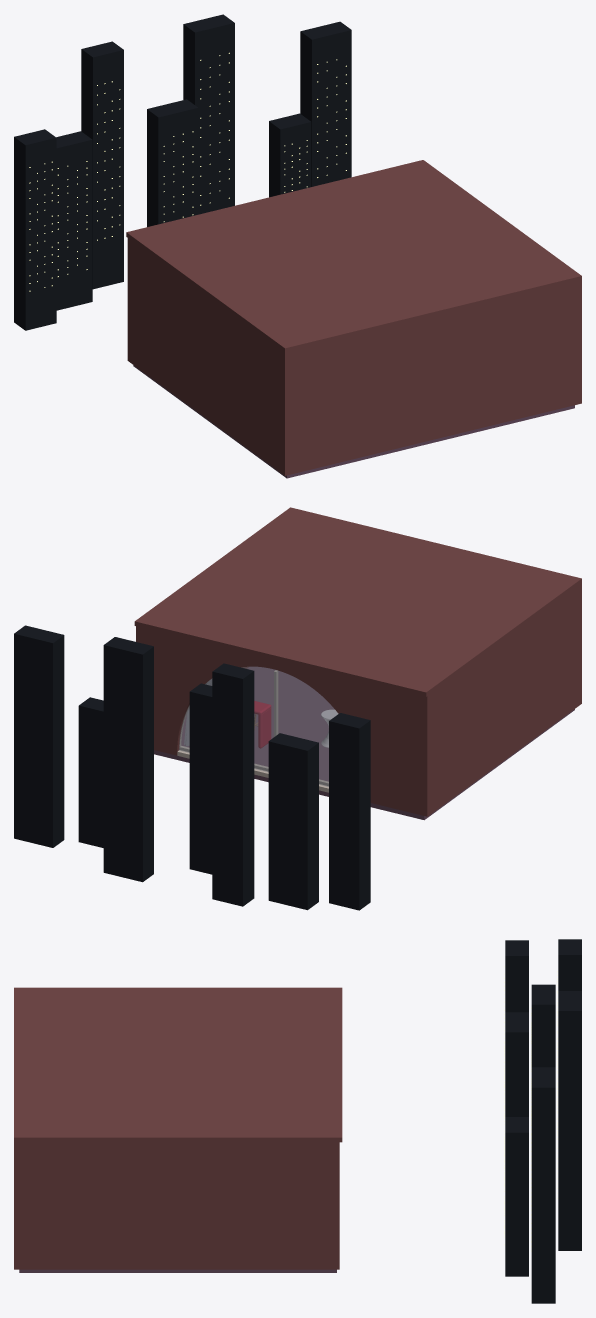
3 views of the same model, one above another, from view 1: azimuth 30°, elevation 25°; view 2: azimuth 150°, elevation 25°; view 3: azimuth 270°, elevation 25° (orthographic). The views are drawn at different scales.
Visible parts, largest first — view 1: CEILING_inferred, WALL_front_inferred, WALL_left_inferred, CONTEXT_city_mass_2, CONTEXT_city_mass_0, CONTEXT_city_mass_4, CONTEXT_city_mass_6, CONTEXT_city_mass_1, CONTEXT_city_mass_3, CONTEXT_city_mass_5, FLOOR_bounded; view 2: CEILING_inferred, WALL_left_inferred, CONTEXT_city_mass_4, CONTEXT_city_mass_6, CONTEXT_city_mass_2, CONTEXT_city_mass_1, CONTEXT_city_mass_0, WALL_rear_left, WINDOW_glazing, FLOOR_bounded, CONTEXT_city_mass_3, CONTEXT_city_mass_5 (+1 smaller); view 3: CEILING_inferred, WALL_right_inferred, CONTEXT_city_mass_4, CONTEXT_city_mass_6, CONTEXT_city_mass_5, CONTEXT_city_mass_3, CONTEXT_city_mass_1, CONTEXT_city_mass_0, FLOOR_bounded, CONTEXT_city_mass_2, WALL_front_inferred, WALL_rear_right.
Part boxes in pixels (left/top/right/bottom): CEILING_inferred: left=126, top=160, right=581, bottom=352; WALL_front_inferred: left=282, top=280, right=581, bottom=475; WALL_left_inferred: left=130, top=240, right=282, bottom=473; CONTEXT_city_mass_2: left=81, top=41, right=123, bottom=289; CONTEXT_city_mass_0: left=14, top=129, right=56, bottom=330; CONTEXT_city_mass_4: left=183, top=14, right=234, bottom=214; CONTEXT_city_mass_6: left=300, top=21, right=351, bottom=186; CONTEXT_city_mass_1: left=56, top=131, right=92, bottom=310; CONTEXT_city_mass_3: left=147, top=99, right=198, bottom=226; CONTEXT_city_mass_5: left=269, top=113, right=311, bottom=197; FLOOR_bounded: left=133, top=365, right=574, bottom=478; CEILING_inferred: left=134, top=507, right=581, bottom=696; WALL_left_inferred: left=428, top=585, right=579, bottom=814; CONTEXT_city_mass_4: left=103, top=637, right=153, bottom=882; CONTEXT_city_mass_6: left=14, top=625, right=64, bottom=847; CONTEXT_city_mass_2: left=212, top=663, right=254, bottom=906; CONTEXT_city_mass_1: left=268, top=733, right=318, bottom=910; CONTEXT_city_mass_0: left=329, top=713, right=370, bottom=910; WALL_rear_left: left=368, top=683, right=429, bottom=816; WINDOW_glazing: left=179, top=667, right=337, bottom=786; FLOOR_bounded: left=154, top=666, right=574, bottom=820; CONTEXT_city_mass_3: left=189, top=683, right=212, bottom=874; CONTEXT_city_mass_5: left=78, top=697, right=103, bottom=847; CEILING_inferred: left=14, top=987, right=342, bottom=1142; WALL_right_inferred: left=19, top=1142, right=336, bottom=1269; CONTEXT_city_mass_4: left=558, top=991, right=581, bottom=1250; CONTEXT_city_mass_6: left=531, top=1067, right=555, bottom=1303; CONTEXT_city_mass_5: left=505, top=1117, right=528, bottom=1276; CONTEXT_city_mass_3: left=505, top=1012, right=528, bottom=1116; CONTEXT_city_mass_1: left=531, top=984, right=555, bottom=1067; CONTEXT_city_mass_0: left=505, top=940, right=528, bottom=1012; FLOOR_bounded: left=19, top=1269, right=336, bottom=1272; CONTEXT_city_mass_2: left=558, top=939, right=581, bottom=990; WALL_front_inferred: left=14, top=1142, right=19, bottom=1269; WALL_rear_right: left=334, top=1142, right=339, bottom=1269.
Bounding box in the file's own units: 15.3 × 10 × 21.45.
